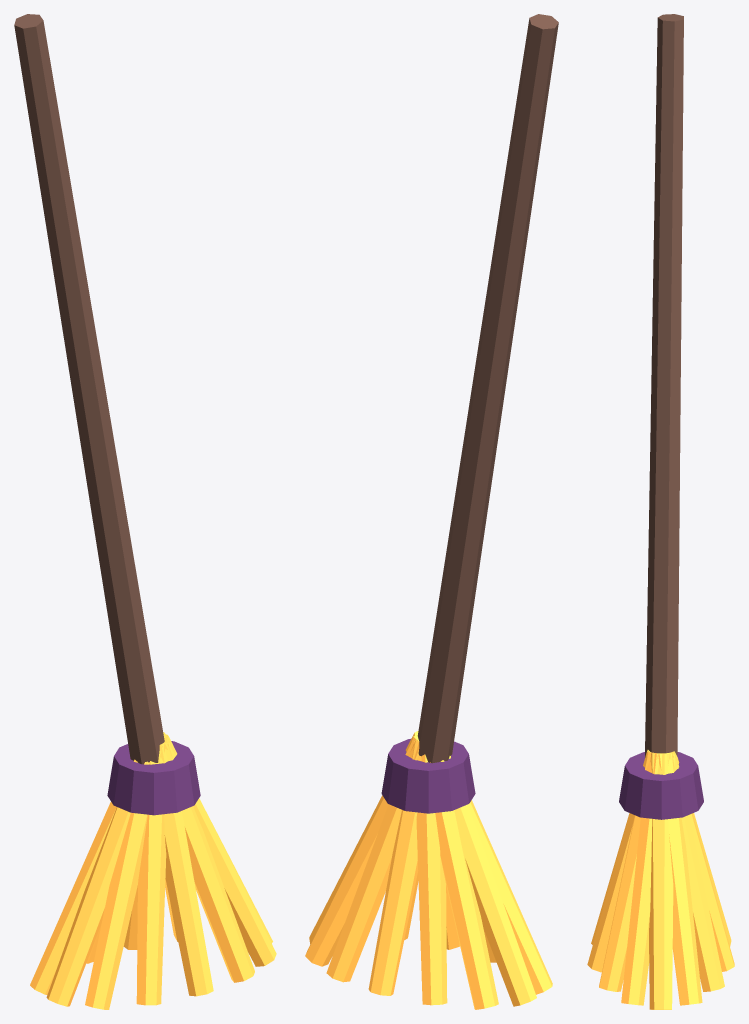
Rendered from witch-broom.glb.
3 views of the same model, side by side, from view 1: azimuth 30°, elevation 25°; view 2: azimuth 150°, elevation 25°; view 3: azimuth 270°, elevation 25° (orthographic). The views are drawn at different scales.
Visible parts, largest first — view 1: witch-broom; view 2: witch-broom; view 3: witch-broom.
Part boxes in pixels (bbox=[...]): witch-broom: bbox=[14, 14, 276, 1009]; witch-broom: bbox=[305, 14, 558, 1009]; witch-broom: bbox=[587, 14, 734, 1009].
Size of the model in its own units: 0.3954 by 1.49 by 0.221.
